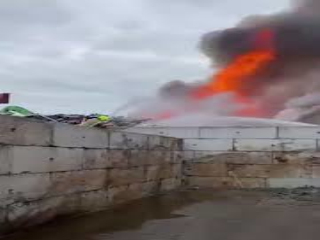fire: (214, 51, 272, 99)
smoke: (210, 10, 317, 112)
